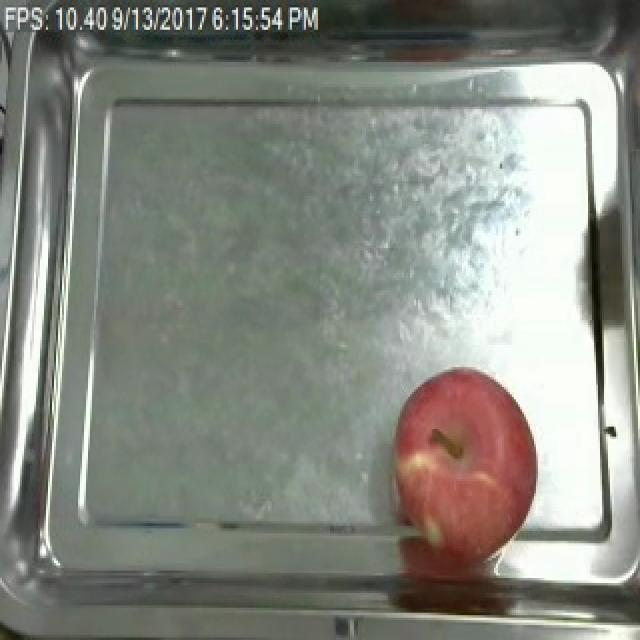apple: (393, 366, 537, 564)
